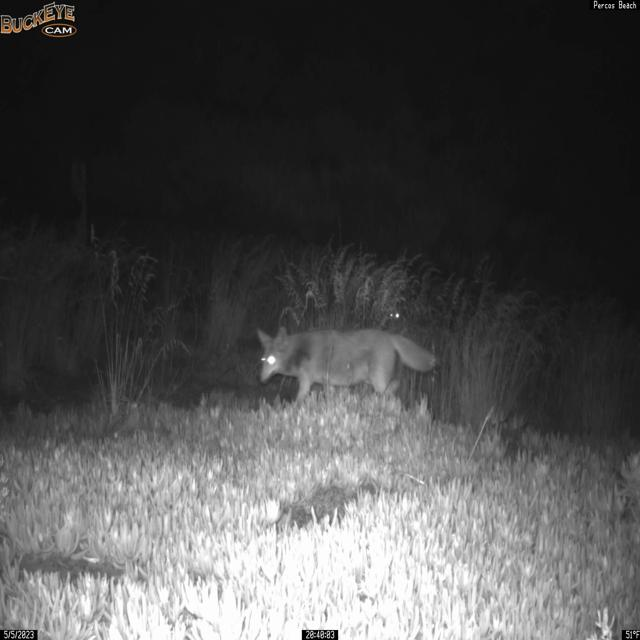coyote: (254, 324, 440, 408)
